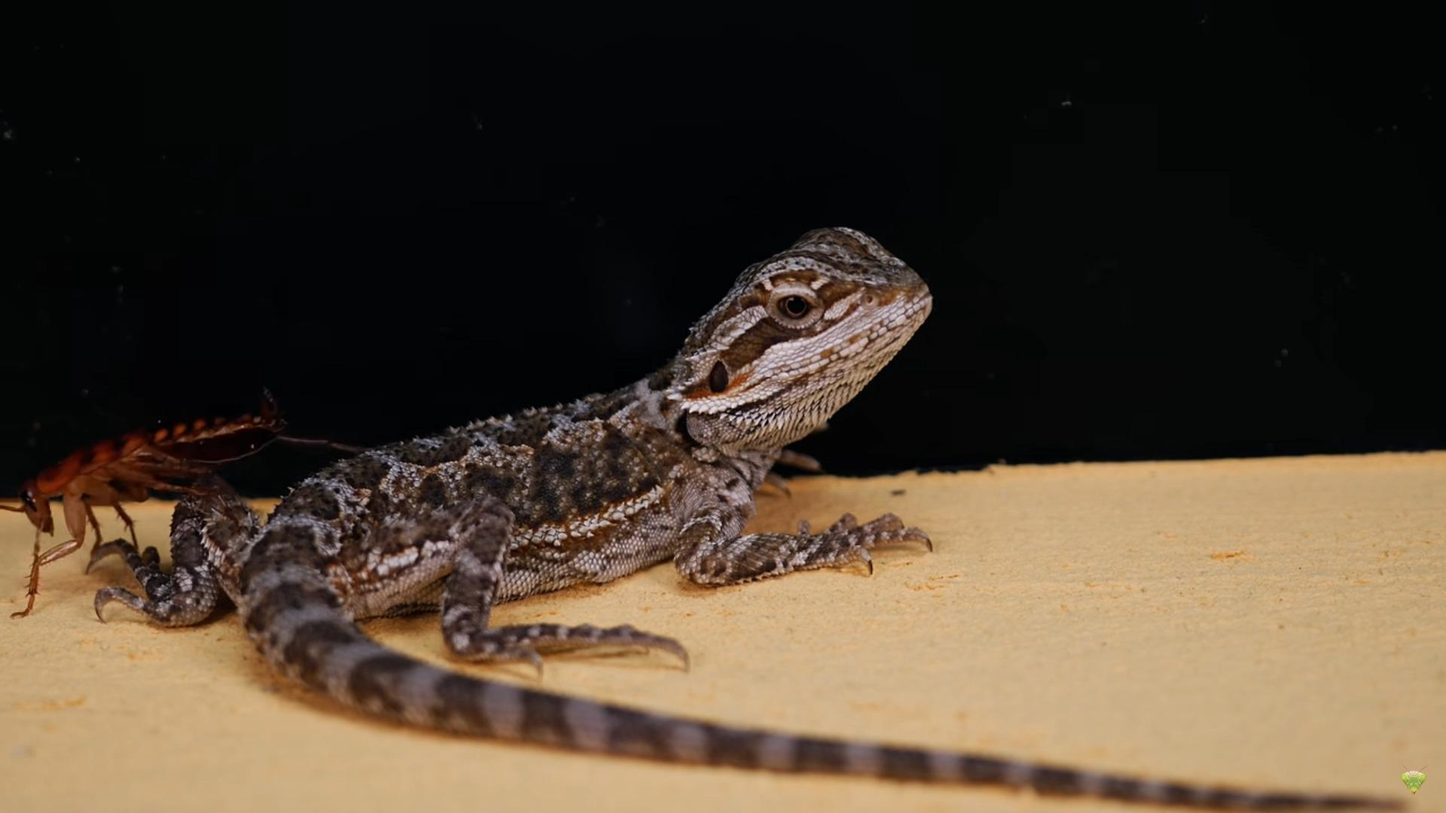cockroach: (18, 379, 292, 525)
lizard: (77, 222, 949, 787)
